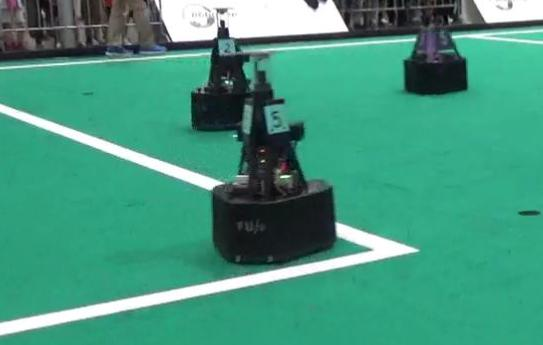robot: (207, 48, 342, 266), (187, 7, 267, 133), (402, 1, 469, 96)
